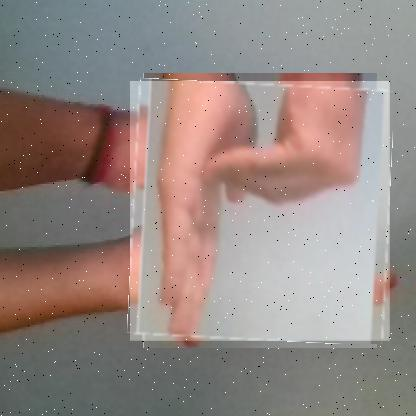Z: (130, 81, 391, 342)
